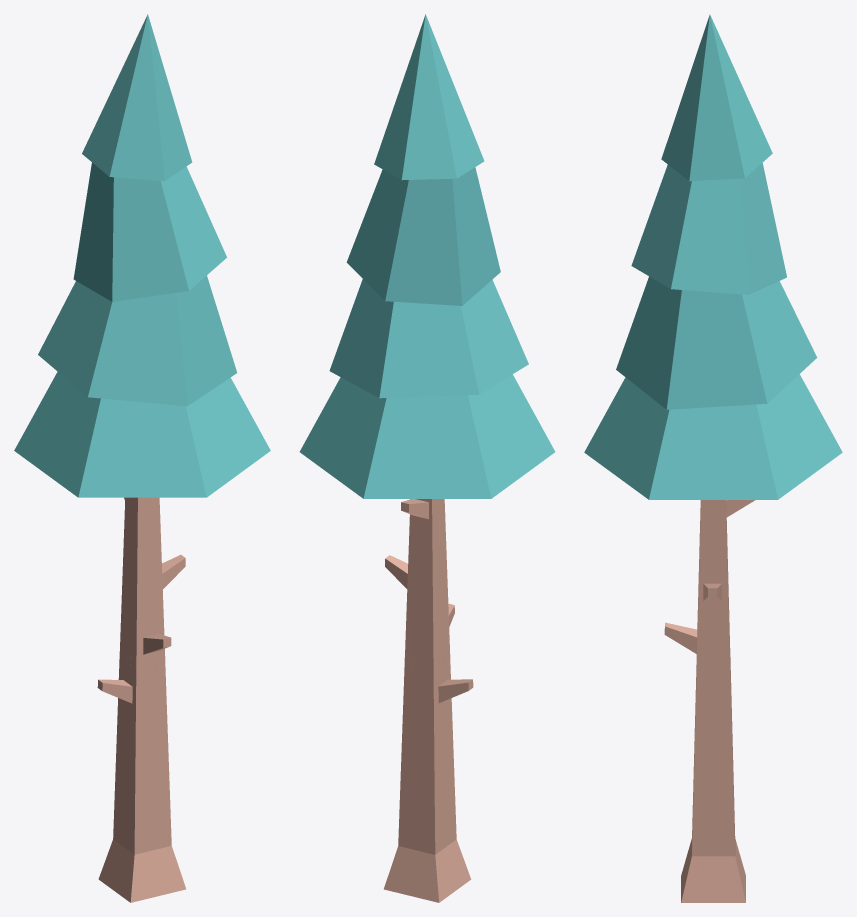
The model's file is tallpinetree.fbx.
3 renders of one model, left to right at view 1: azimuth 30°, elevation 25°; view 2: azimuth 150°, elevation 25°; view 3: azimuth 270°, elevation 25°, orthographic.
Parts seen in each view (by area): view 1: tree_pineTallD_detailed.001, tree_pineTallD_detailed.002; view 2: tree_pineTallD_detailed.001, tree_pineTallD_detailed.002; view 3: tree_pineTallD_detailed.001, tree_pineTallD_detailed.002.
Part boxes in pixels (x1,y1,x2,y2): tree_pineTallD_detailed.001: (14,14,270,672); tree_pineTallD_detailed.002: (97,654,185,902); tree_pineTallD_detailed.001: (299,14,555,672); tree_pineTallD_detailed.002: (384,650,473,902); tree_pineTallD_detailed.001: (584,14,842,674); tree_pineTallD_detailed.002: (681,657,745,902).
Size of the model in its own units: 48.04 by 208 by 55.47.
